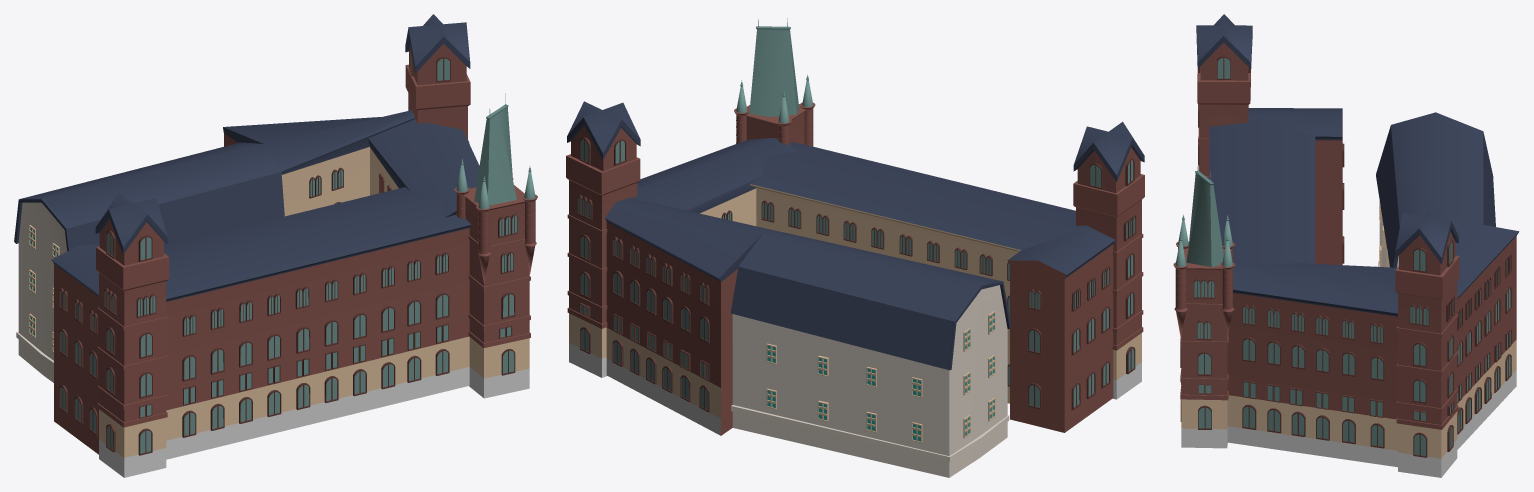
The model's file is Norstedts Förlagsgrupp AB.fbx.
3 renders of one model, left to right at view 1: azimuth 30°, elevation 25°; view 2: azimuth 150°, elevation 25°; view 3: azimuth 270°, elevation 25°, orthographic. The views are drawn at different scales.
Parts seen in each view (by area): view 1: top1; view 2: top1; view 3: top1.
Boxes of the visible parts, x1=… form: top1: x1=14, y1=14, x2=537, y2=477; top1: x1=566, y1=18, x2=1144, y2=477; top1: x1=1173, y1=14, x2=1519, y2=477.
Bounding box in the file's own units: 1033 × 607 × 696.
